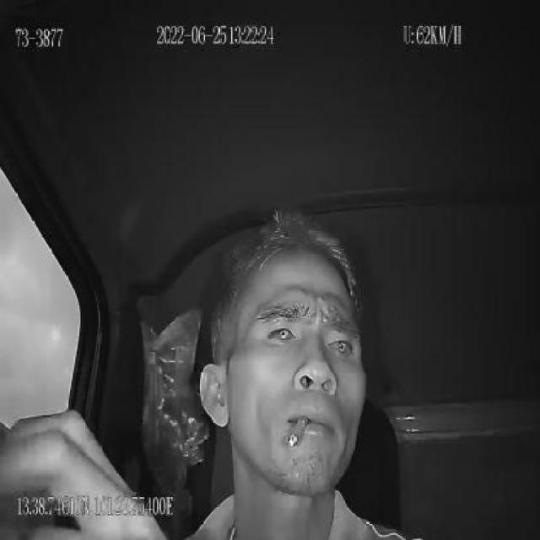smoking: (288, 412, 309, 450)
